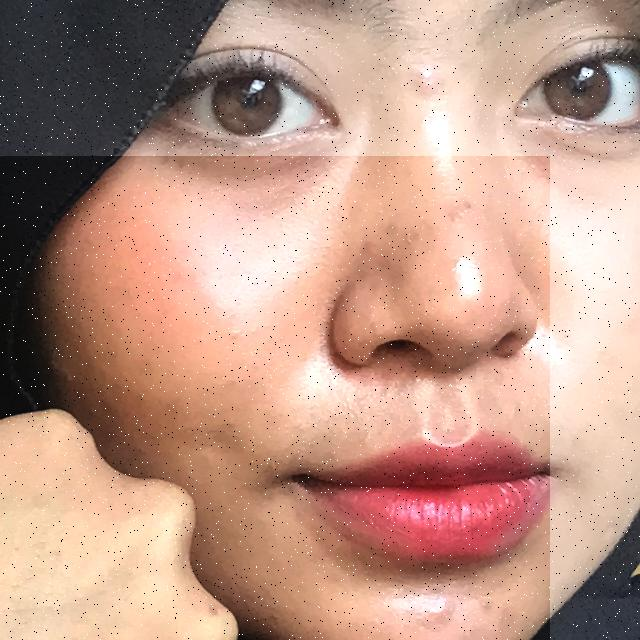telpon: (0, 156, 550, 640)
